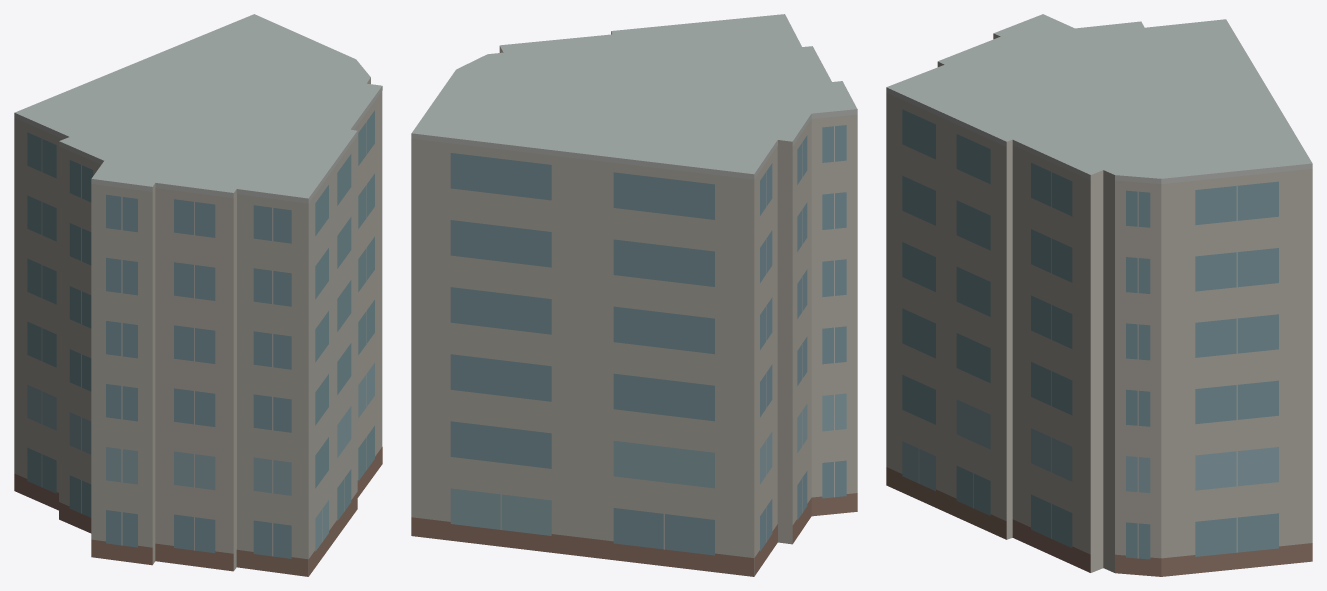
The model's file is survey-upis-32737757.glb.
3 renders of one model, left to right at view 1: azimuth 30°, elevation 25°; view 2: azimuth 150°, elevation 25°; view 3: azimuth 270°, elevation 25°, orthographic. The views are drawn at different scales.
Visible parts, largest first — view 1: survey-upis-32737757.tmp; view 2: survey-upis-32737757.tmp; view 3: survey-upis-32737757.tmp.
Part boxes in pixels (x1,y1,x2,y2): survey-upis-32737757.tmp: (14,14,382,576); survey-upis-32737757.tmp: (411,14,857,576); survey-upis-32737757.tmp: (886,14,1312,576).
Size of the model in its own units: 16.3 by 18.35 by 17.82.
